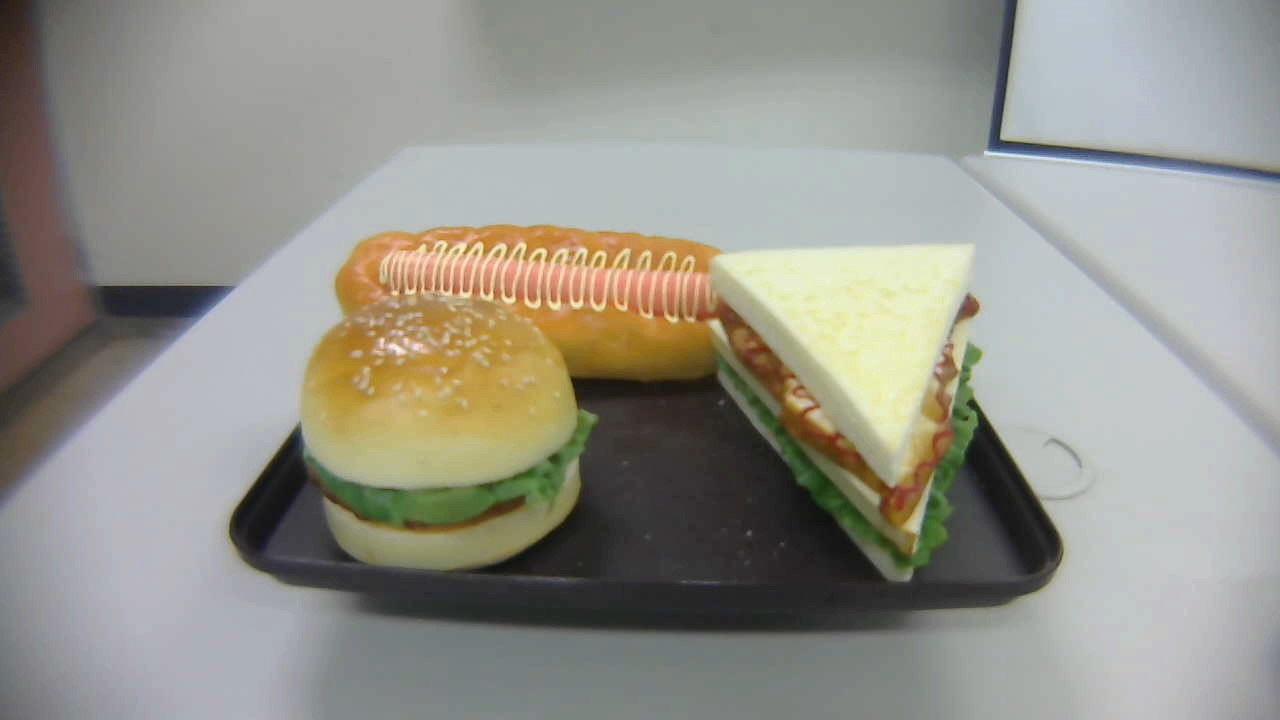hamburger: (299, 297, 596, 574)
hot dog: (334, 223, 737, 380)
sandwich: (713, 245, 980, 588)
